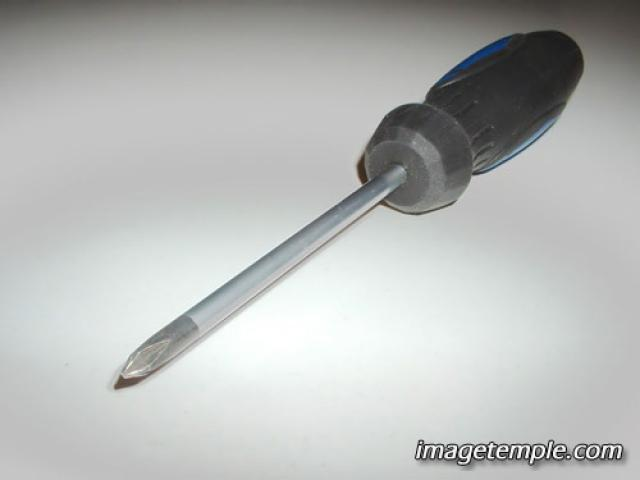Screwdriver: (121, 31, 582, 379)
